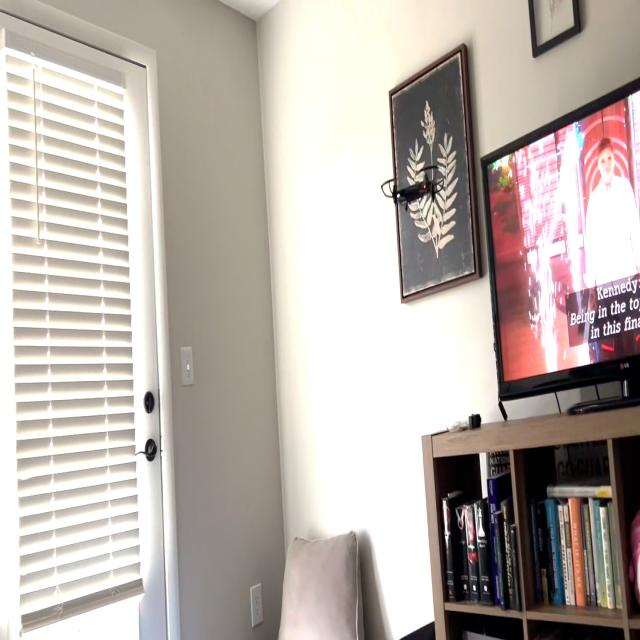drone: (375, 157, 448, 217)
